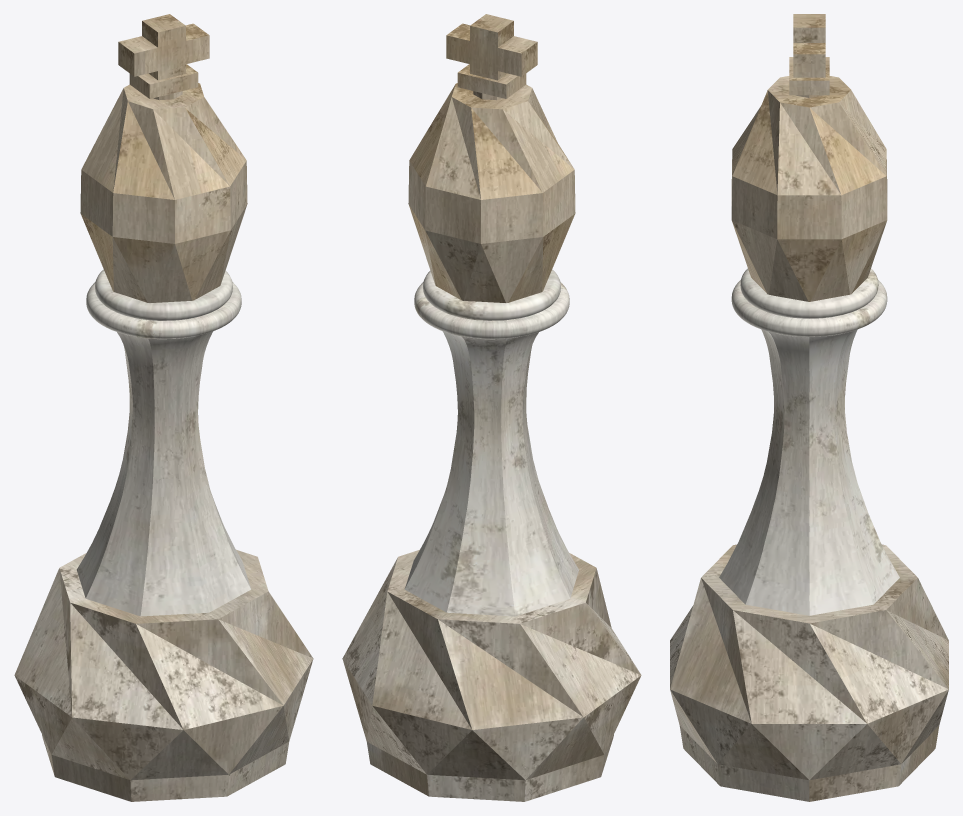
The model's file is lithoxyl_king_white.glb.
3 views of the same model, side by side, from view 1: azimuth 30°, elevation 25°; view 2: azimuth 150°, elevation 25°; view 3: azimuth 270°, elevation 25° (orthographic).
Parts seen in each view (by area): view 1: Lithoxyl_King_Ivory; view 2: Lithoxyl_King_Ivory; view 3: Lithoxyl_King_Ivory.
Part boxes in pixels (x1=…): Lithoxyl_King_Ivory: x1=14, y1=14, x2=313, y2=801; Lithoxyl_King_Ivory: x1=342, y1=14, x2=641, y2=801; Lithoxyl_King_Ivory: x1=670, y1=14, x2=948, y2=801.
Size of the model in its own units: 0.033 by 0.095 by 0.033.
Materials: 3 (3 with a texture image).
